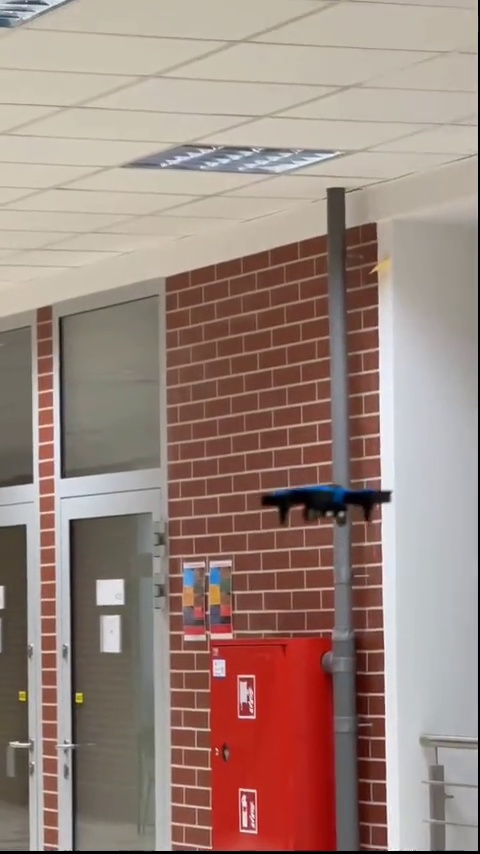drone: (258, 485, 395, 525)
